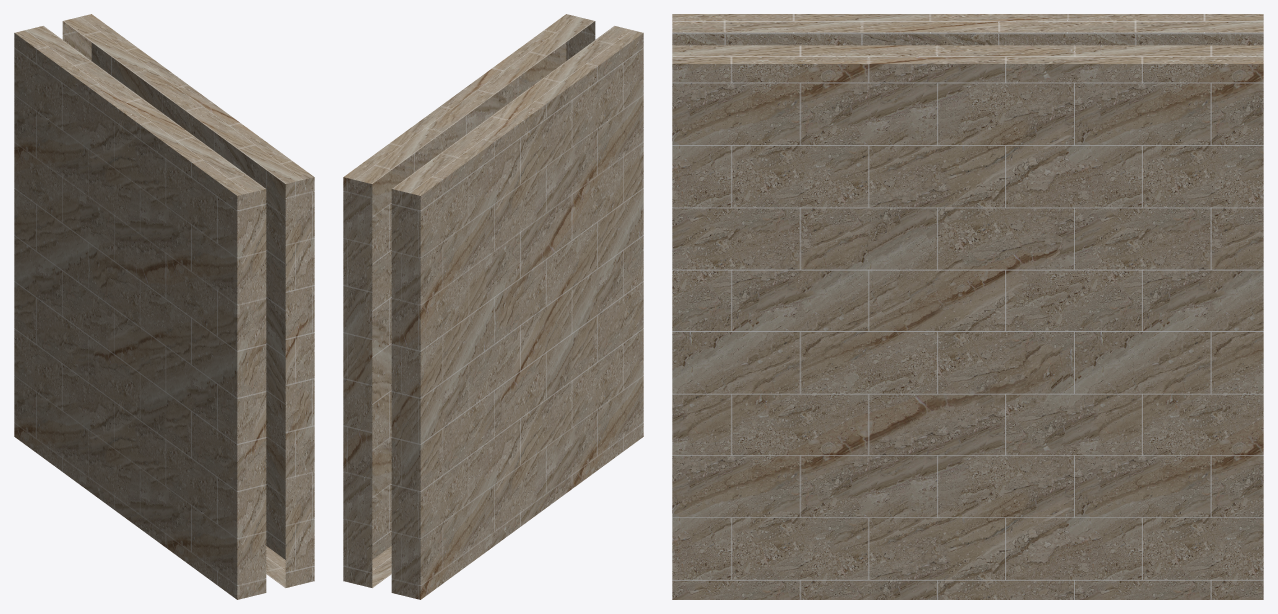
Rendered from simple wall 2x2x04 tiles.fbx.
3 views of the same model, side by side, from view 1: azimuth 30°, elevation 25°; view 2: azimuth 150°, elevation 25°; view 3: azimuth 270°, elevation 25° (orthographic). The views are drawn at different scales.
Visible parts, largest first — view 1: Cube; view 2: Cube; view 3: Cube.
Part boxes in pixels (x1,y1,x2,y2): Cube: (14, 14, 314, 599); Cube: (343, 14, 643, 599); Cube: (672, 14, 1263, 599).
Bounding box in the file's own units: 40 × 200 × 200.
